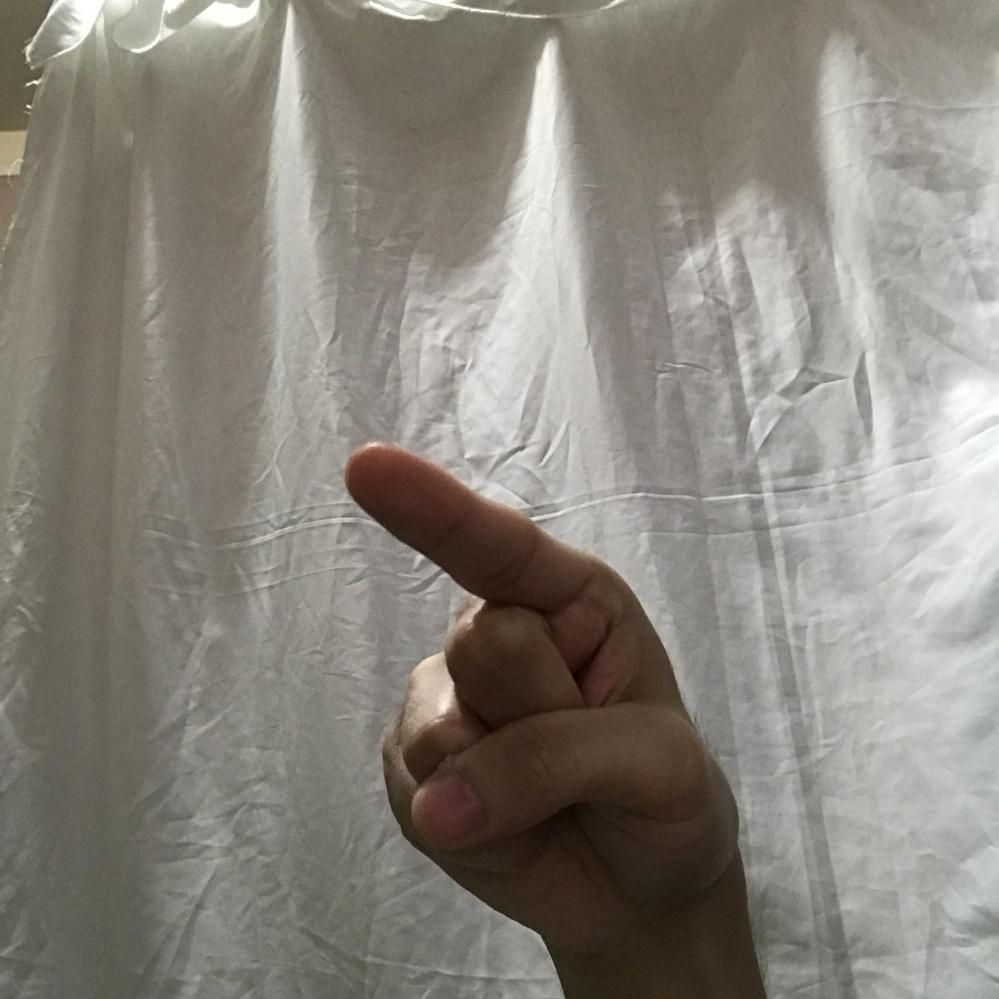z: (340, 433, 739, 932)
